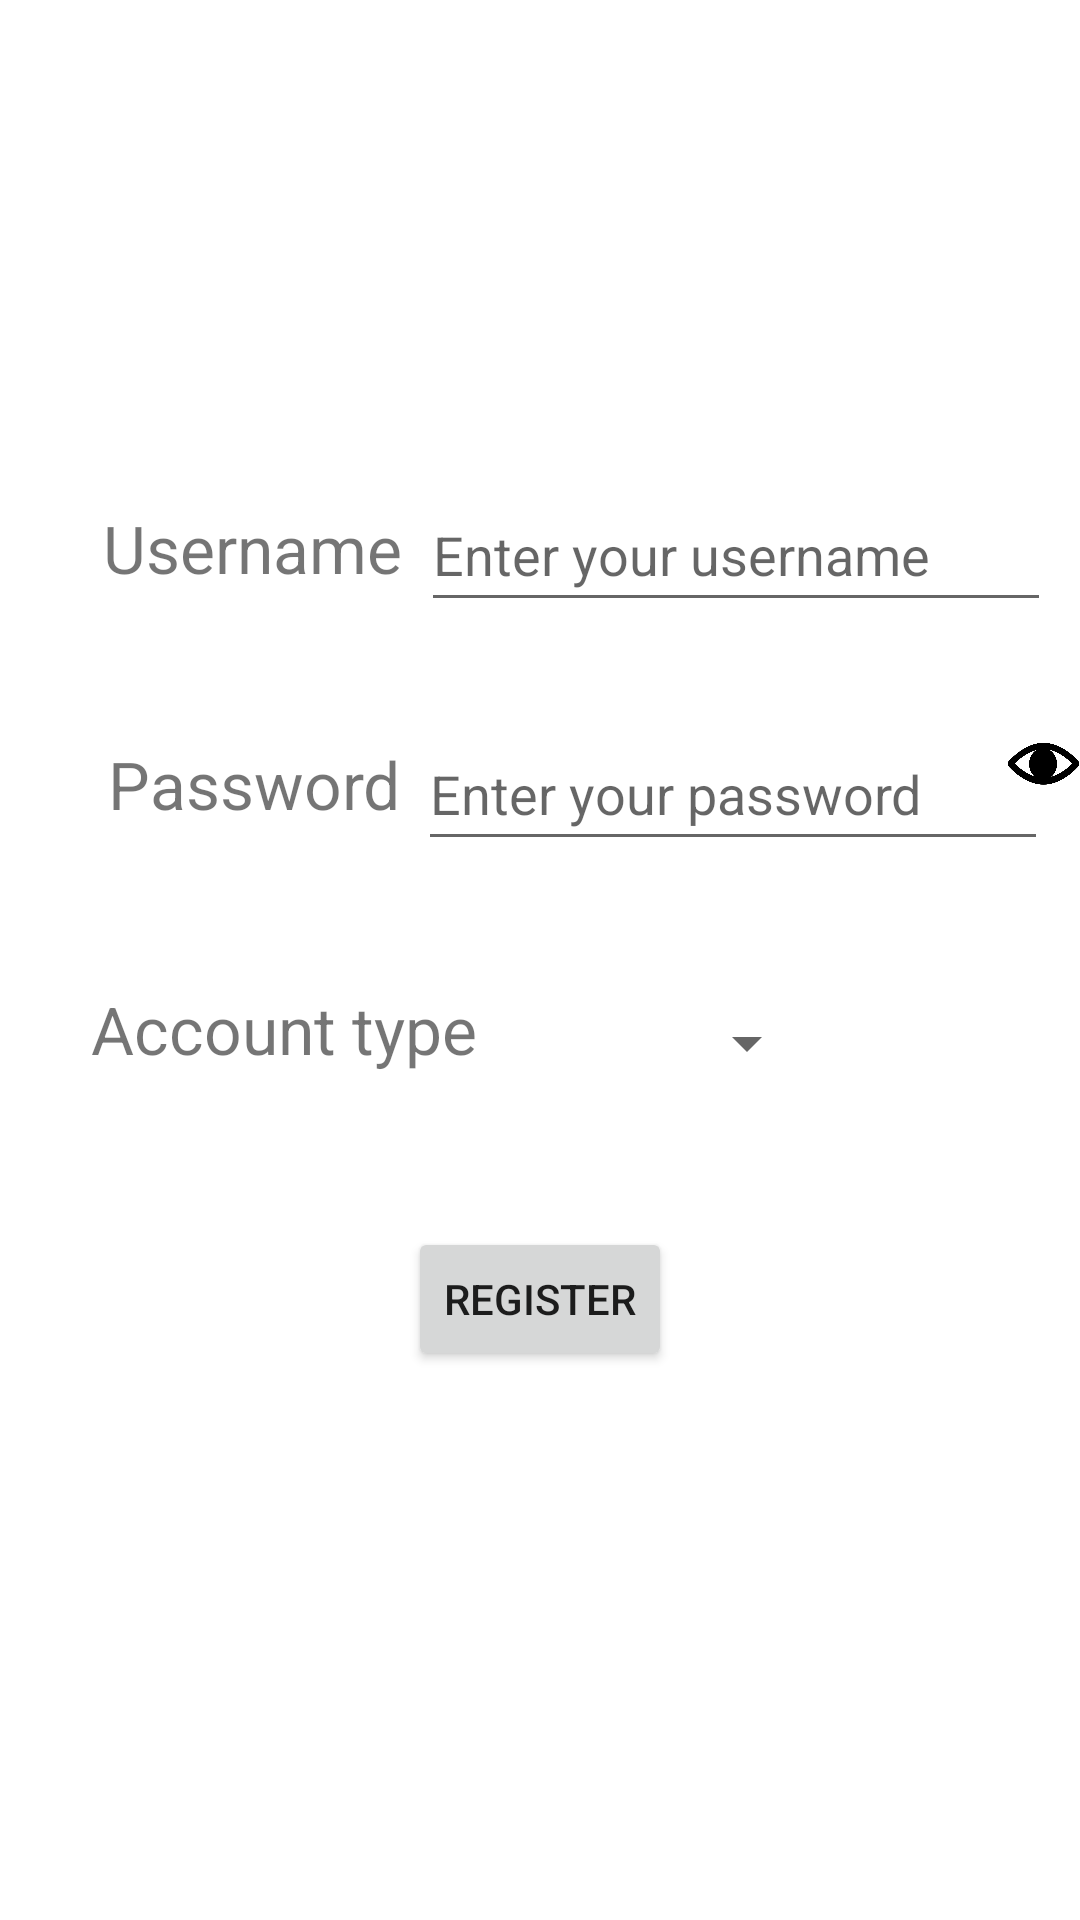

Icons on this 1080*1920 Android screen, each with its box as bbox=(x1, y1, x2, y2):
Password Toggler: bbox=(1008, 743, 1079, 785)
